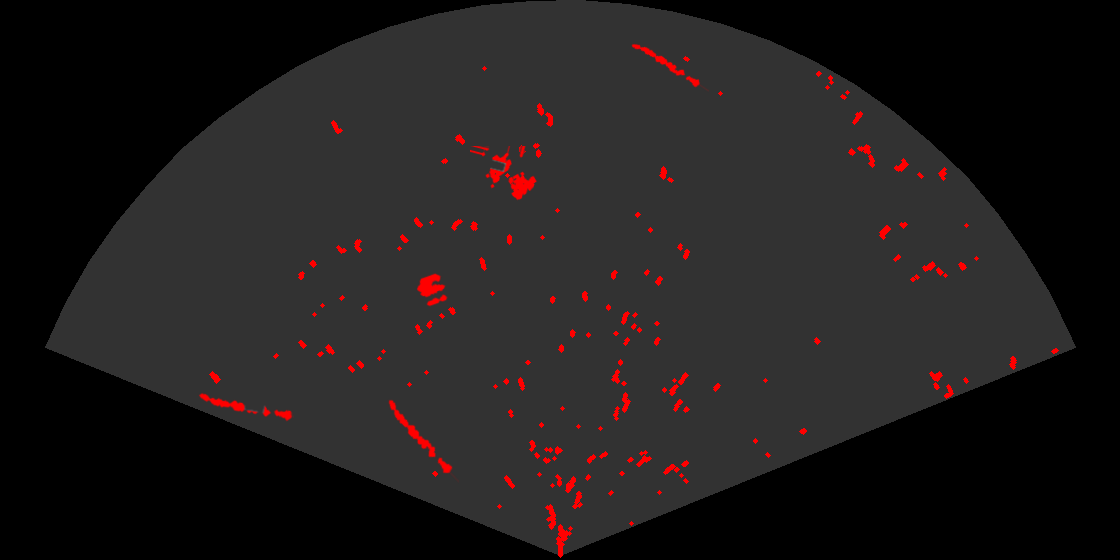ball: (415, 272, 449, 308)
cage: (470, 146, 539, 202)
chain: (387, 398, 459, 484), (630, 42, 709, 93), (197, 391, 294, 423)
